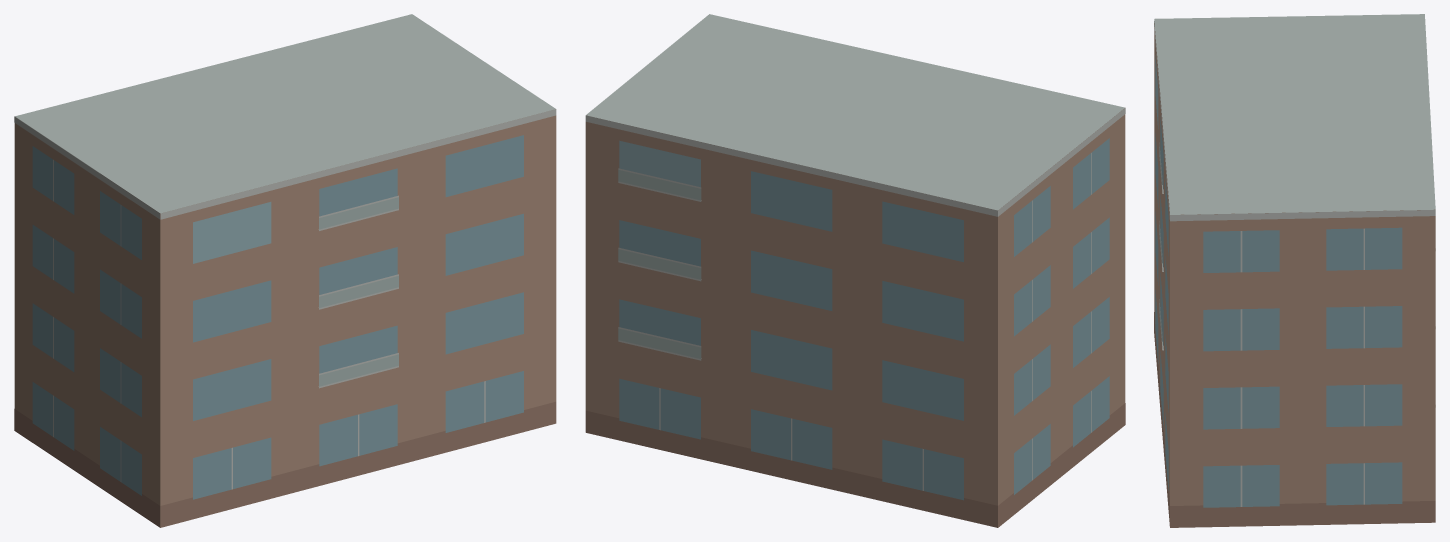
File: survey-upis-32755486.glb
3 renders of one model, left to right at view 1: azimuth 30°, elevation 25°; view 2: azimuth 150°, elevation 25°; view 3: azimuth 270°, elevation 25°, orthographic.
Visible parts, largest first — view 1: survey-upis-32755486.tmp; view 2: survey-upis-32755486.tmp; view 3: survey-upis-32755486.tmp.
Boxes of the visible parts, x1=… form: survey-upis-32755486.tmp: x1=14, y1=14, x2=556, y2=527; survey-upis-32755486.tmp: x1=585, y1=14, x2=1125, y2=527; survey-upis-32755486.tmp: x1=1154, y1=14, x2=1435, y2=527.
Size of the model in its own units: 16.75 by 12.15 by 9.92.
